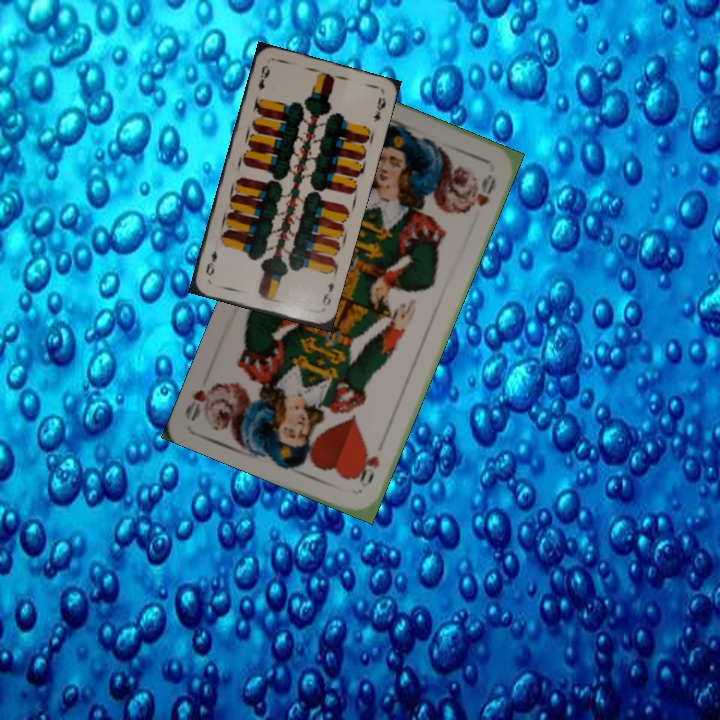E9: (318, 278, 337, 309), (254, 61, 272, 92)
HO: (353, 449, 383, 486)
